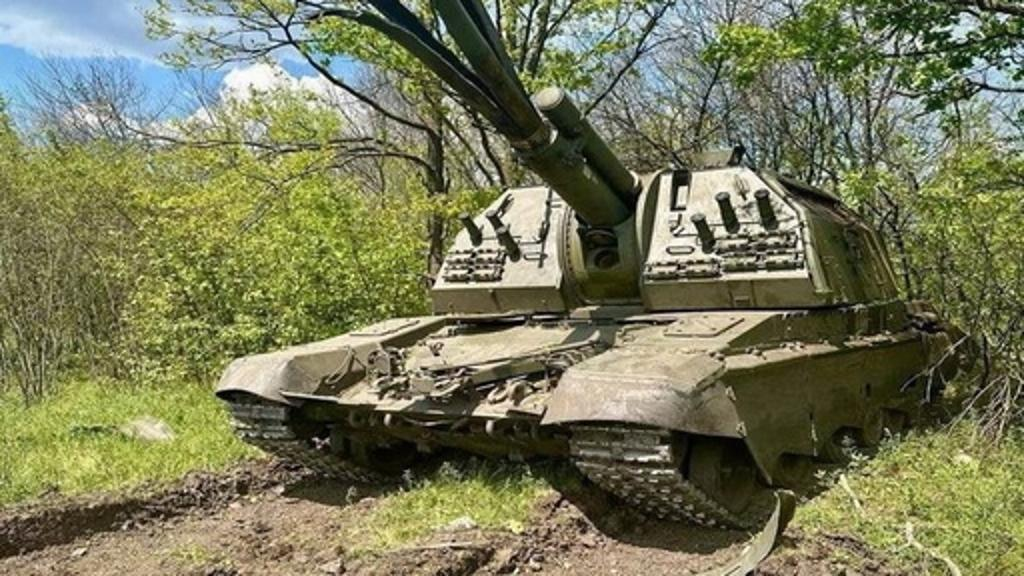ART: (208, 4, 968, 532)
